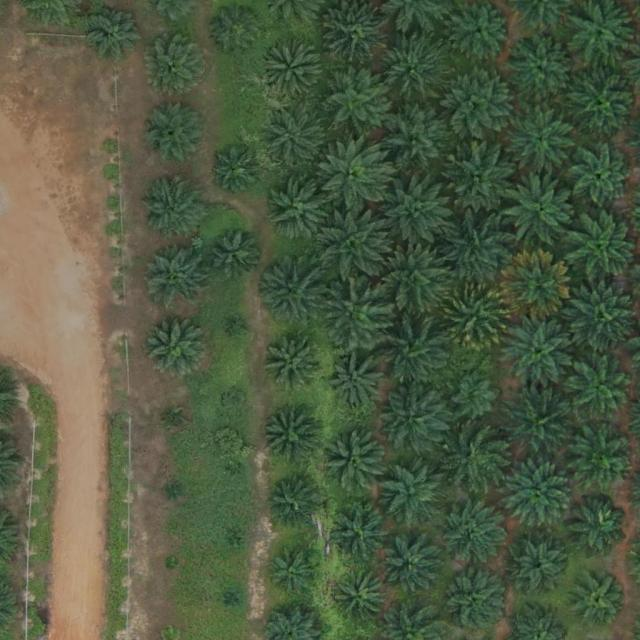Healthy: (377, 34, 448, 105), (382, 106, 453, 177), (257, 257, 328, 328), (320, 67, 390, 138), (320, 212, 390, 283), (384, 175, 454, 246), (446, 214, 517, 284), (507, 109, 577, 180), (506, 175, 576, 246), (566, 282, 636, 353), (567, 356, 637, 427), (501, 389, 572, 459), (503, 464, 573, 535), (377, 247, 447, 318), (379, 318, 449, 389), (381, 383, 451, 454), (322, 278, 392, 349), (319, 143, 389, 213), (445, 69, 515, 139), (447, 140, 517, 210), (507, 35, 577, 105), (570, 72, 640, 142), (503, 315, 573, 385), (571, 212, 640, 282), (140, 177, 203, 240), (570, 147, 633, 210), (380, 463, 443, 526), (145, 246, 208, 309), (144, 314, 207, 377), (147, 35, 209, 98), (144, 102, 206, 165), (261, 39, 323, 102), (267, 110, 330, 172), (269, 180, 331, 243), (574, 425, 636, 488), (324, 431, 386, 494), (329, 501, 391, 564), (442, 571, 504, 634), (567, 495, 629, 557), (446, 428, 508, 490), (442, 504, 504, 566), (90, 6, 145, 61), (509, 541, 564, 596), (267, 334, 322, 389), (267, 477, 322, 532), (208, 228, 263, 283), (335, 572, 390, 627), (573, 573, 628, 628), (210, 5, 264, 60), (385, 542, 439, 597), (330, 355, 384, 410), (263, 411, 317, 466), (213, 147, 260, 195), (452, 372, 499, 420)
Small: (269, 544, 324, 600), (224, 392, 248, 416), (226, 536, 242, 552), (167, 484, 183, 500), (232, 320, 248, 335), (167, 414, 183, 429), (230, 464, 245, 479), (165, 558, 180, 573), (227, 592, 242, 607)
Yellow: (440, 282, 511, 353), (502, 252, 572, 322)
